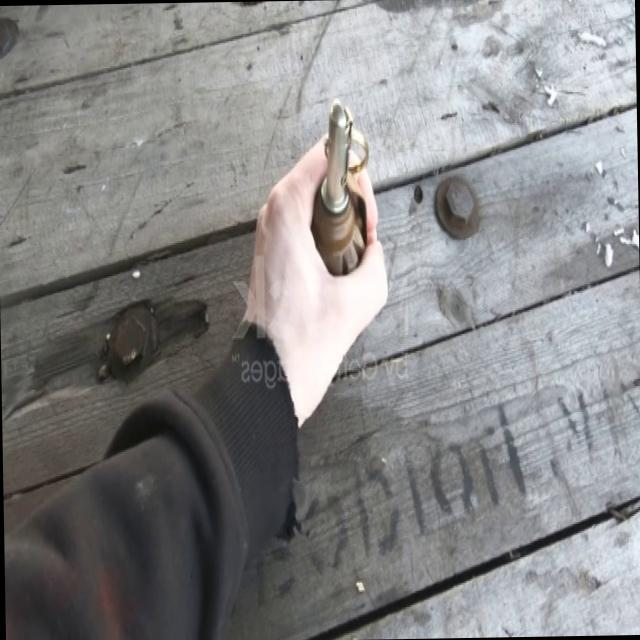grenade: (310, 100, 364, 278)
